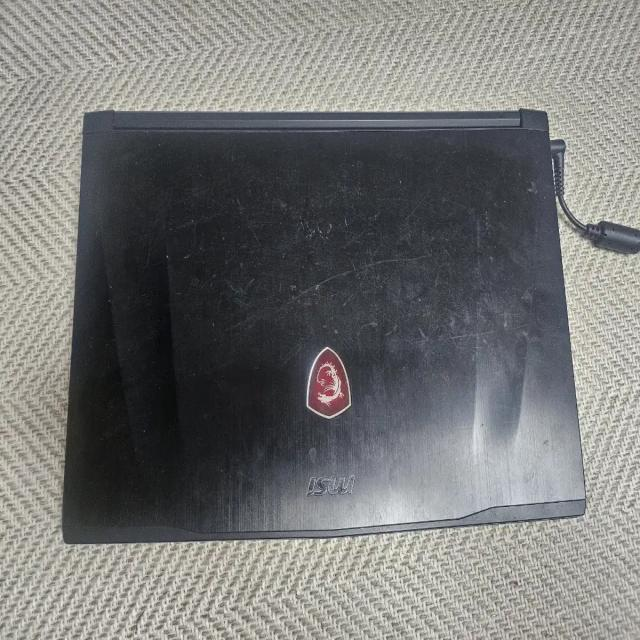laptop: (61, 108, 587, 543)
